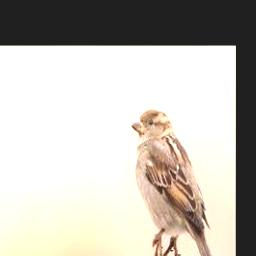Sparrow: (130, 110, 223, 256)
